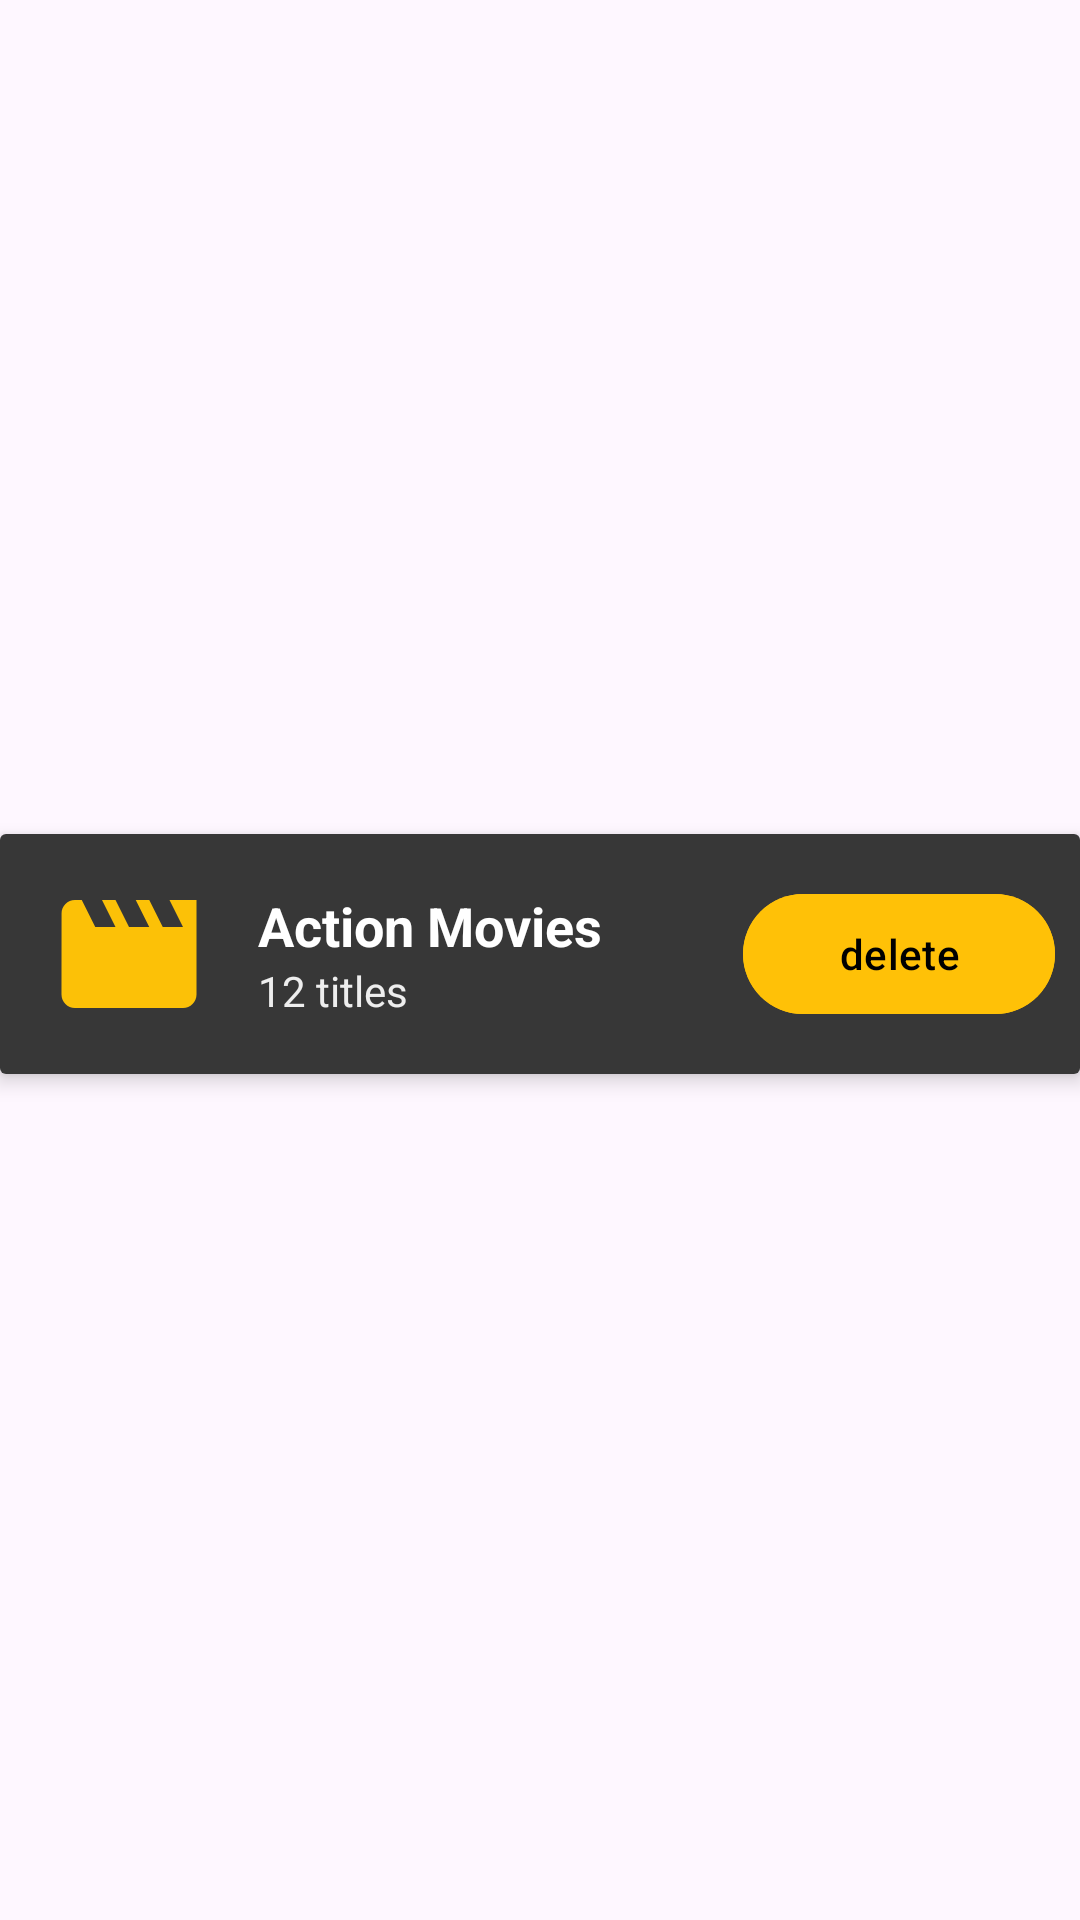

Where icons sit on this 1080 x 1920 app screen, as (x1, y1, x2, y2):
List Icon of movie clipper: (61, 900, 197, 1008)
